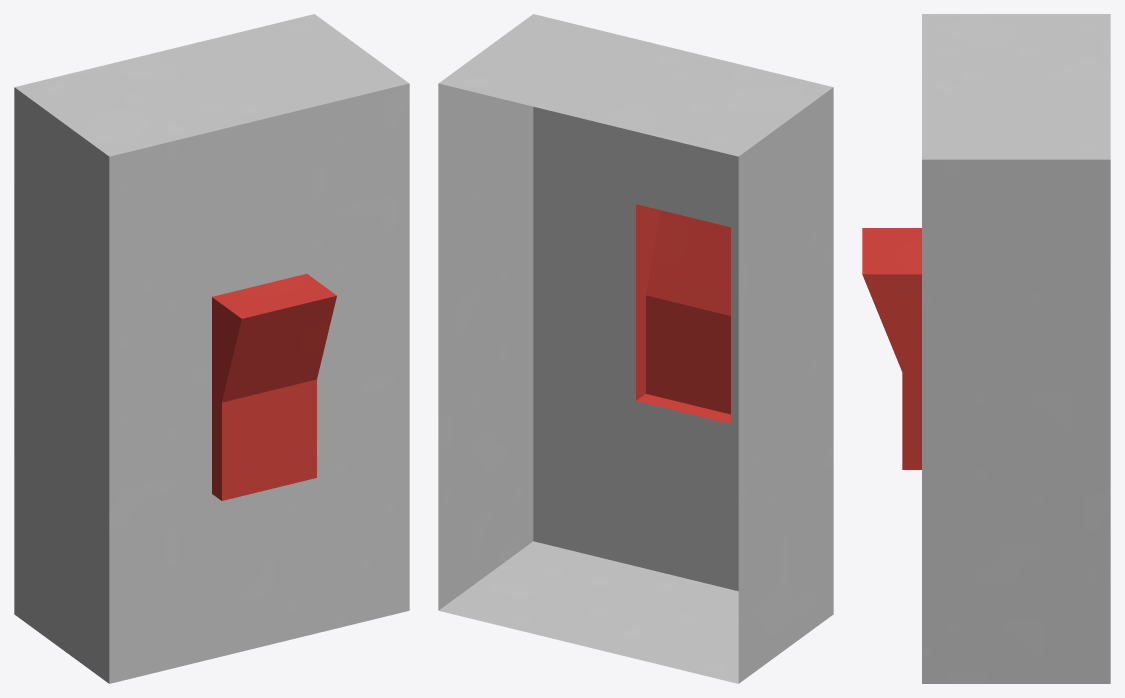
File: Power_Switch.fbx
The picture shows the model from 3 angles, left to right: view 1: azimuth 30°, elevation 25°; view 2: azimuth 150°, elevation 25°; view 3: azimuth 270°, elevation 25°; orthographic projection.
Visible parts, largest first — view 1: Power_Switch; view 2: Power_Switch; view 3: Power_Switch.
Part boxes in pixels (x1,y1,x2,y2): Power_Switch: (14, 14, 409, 683); Power_Switch: (438, 14, 833, 683); Power_Switch: (862, 14, 1110, 683).
Size of the model in its own units: 0.0793 by 0.1331 by 0.0572.
